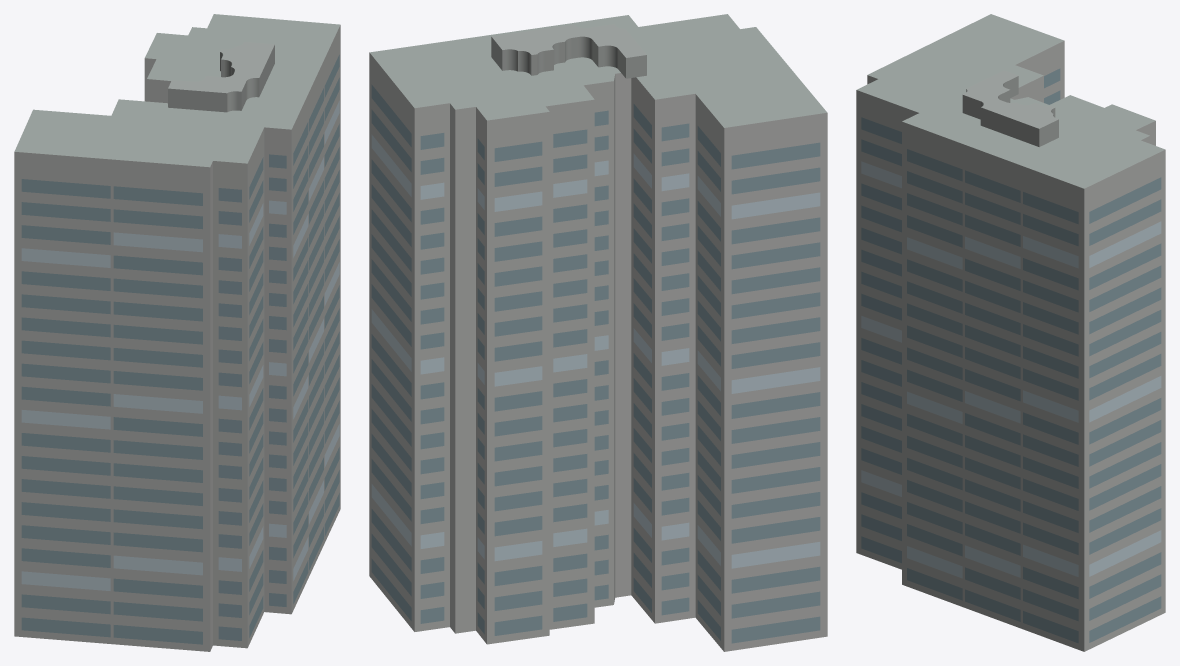
Rendered from fallback-godeok-arteon-335.glb.
3 views of the same model, side by side, from view 1: azimuth 30°, elevation 25°; view 2: azimuth 150°, elevation 25°; view 3: azimuth 270°, elevation 25° (orthographic). The views are drawn at different scales.
Visible parts, largest first — view 1: fallback-godeok-arteon-335; view 2: fallback-godeok-arteon-335; view 3: fallback-godeok-arteon-335.
Part boxes in pixels (x1,y1,x2,y2): fallback-godeok-arteon-335: [14, 14, 340, 651]; fallback-godeok-arteon-335: [369, 14, 827, 651]; fallback-godeok-arteon-335: [856, 14, 1165, 651].
Bounding box in the file's own units: 49.06 × 63 × 36.67.
